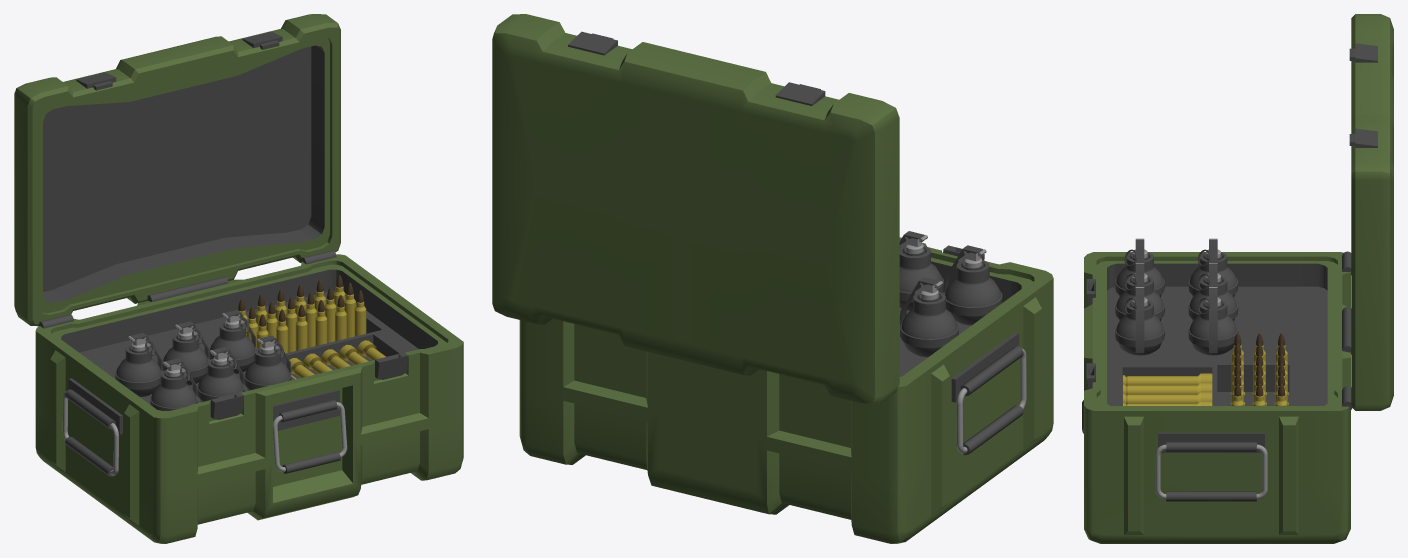
File: SM_MunitionBox01_Open.fbx
3 renders of one model, left to right at view 1: azimuth 30°, elevation 25°; view 2: azimuth 150°, elevation 25°; view 3: azimuth 270°, elevation 25°, orthographic. The views are drawn at different scales.
Parts seen in each view (by area): view 1: SM_MunitionBox01_Open; view 2: SM_MunitionBox01_Open; view 3: SM_MunitionBox01_Open.
Boxes of the visible parts, x1=… form: SM_MunitionBox01_Open: x1=14, y1=14, x2=463, y2=543; SM_MunitionBox01_Open: x1=492, y1=14, x2=1053, y2=543; SM_MunitionBox01_Open: x1=1082, y1=14, x2=1393, y2=543.
Bounding box in the file's own units: 70.38 × 73.72 × 54.76.
